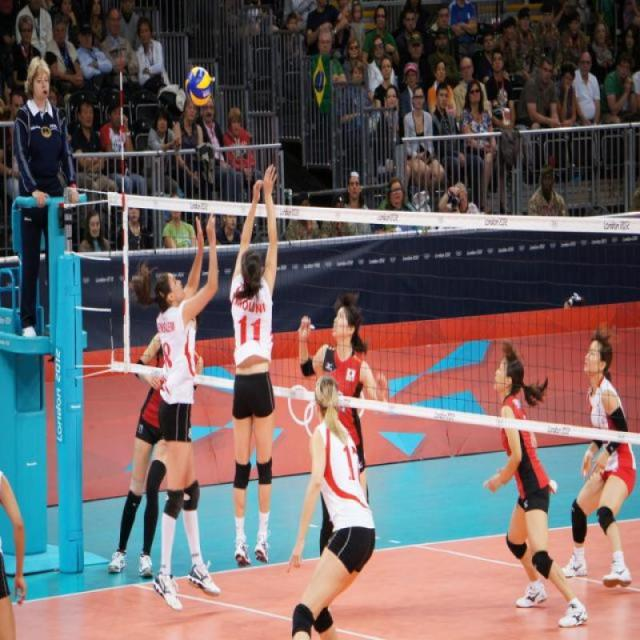volleyball: (184, 62, 213, 106)
